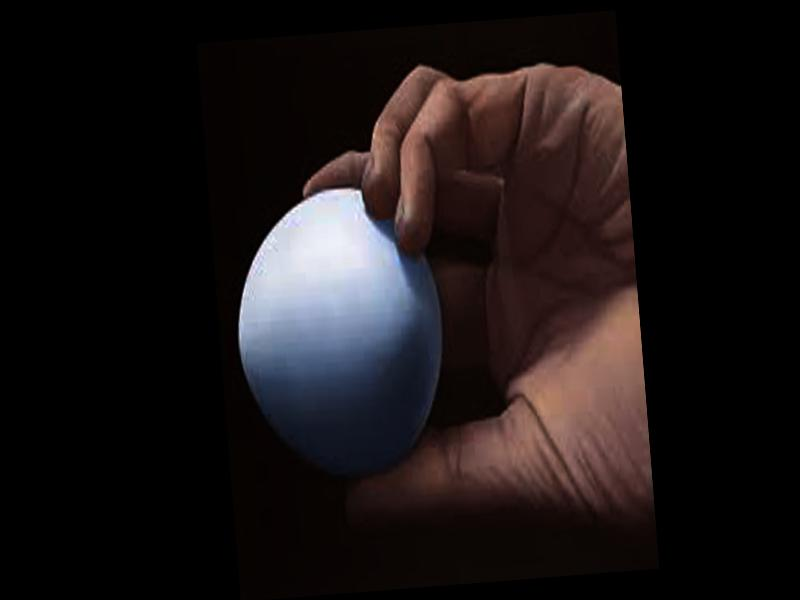Eggs: (225, 178, 450, 482)
